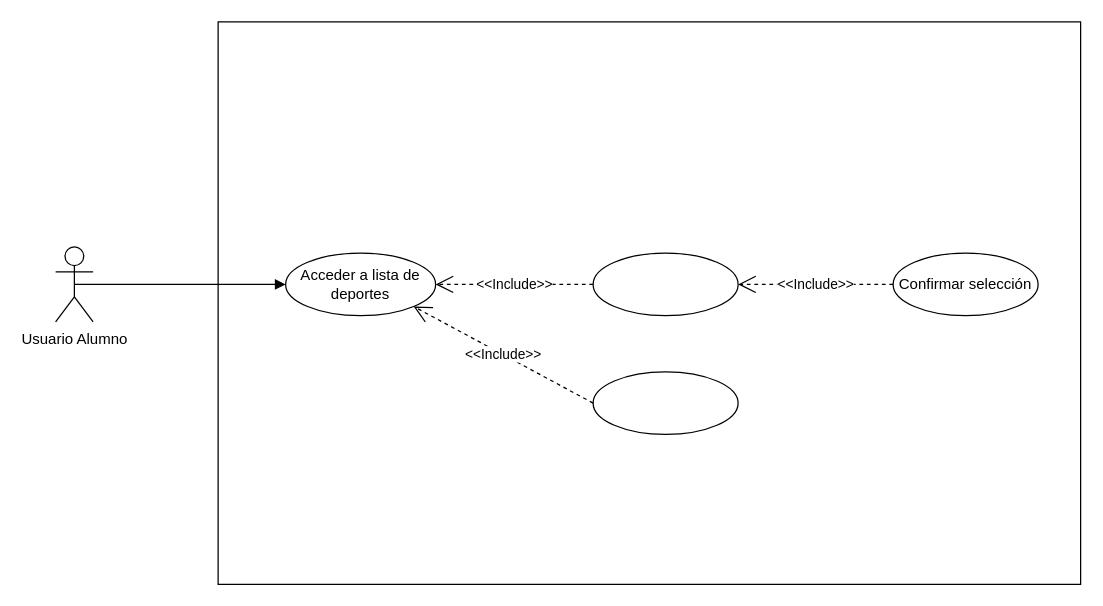
Some shapes in this 1103 by 606 pixel diagram are drawn without their labels. Here are the shapes that lost their labels. From the top down, the box of each, then its label:
(592, 252, 738, 316): Seleccionar deporte de interés
(592, 371, 738, 434): Filtrar deportes según preferencias
